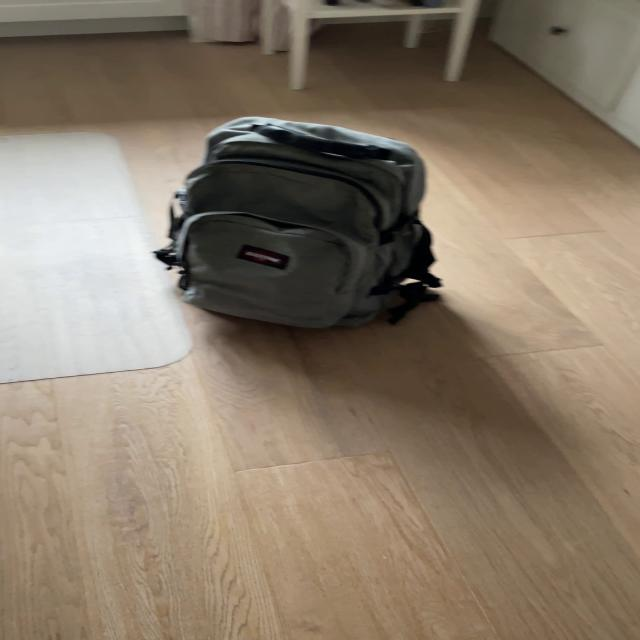backpack: (148, 111, 454, 331)
